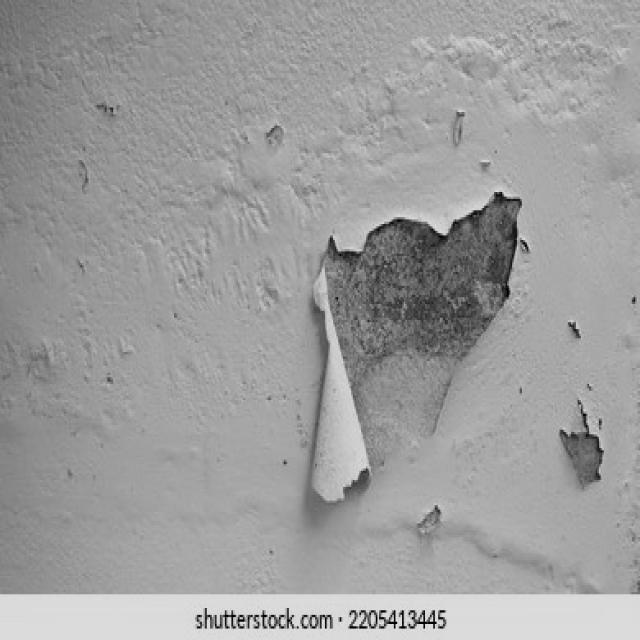peeling paint: (298, 187, 640, 563), (55, 65, 138, 221), (435, 108, 504, 178), (225, 110, 292, 155)
